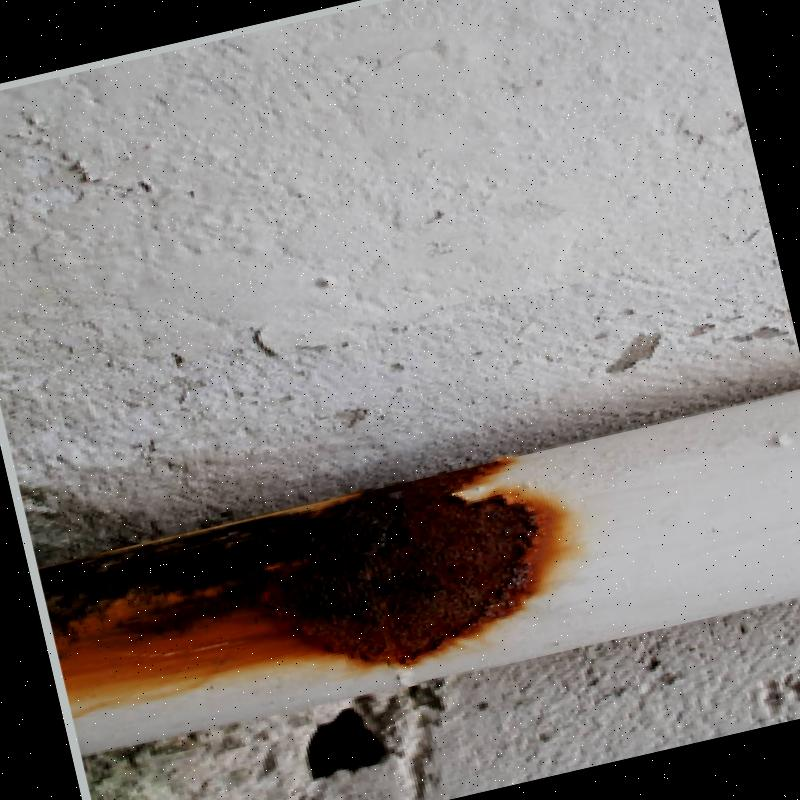Fracture: (350, 499, 428, 560)
corrosion: (121, 457, 514, 704)
